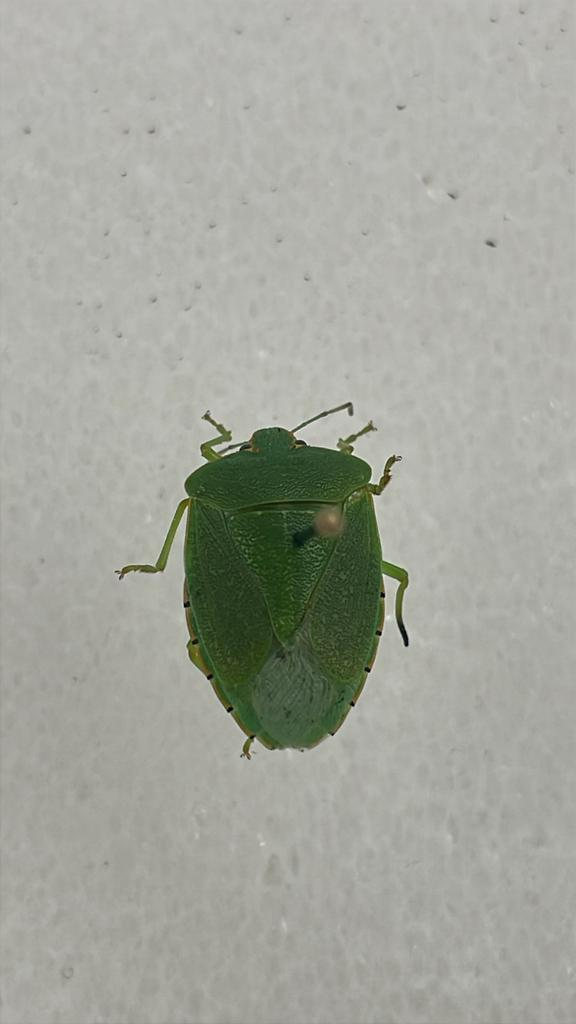stink_bugs: (77, 342, 495, 811)
